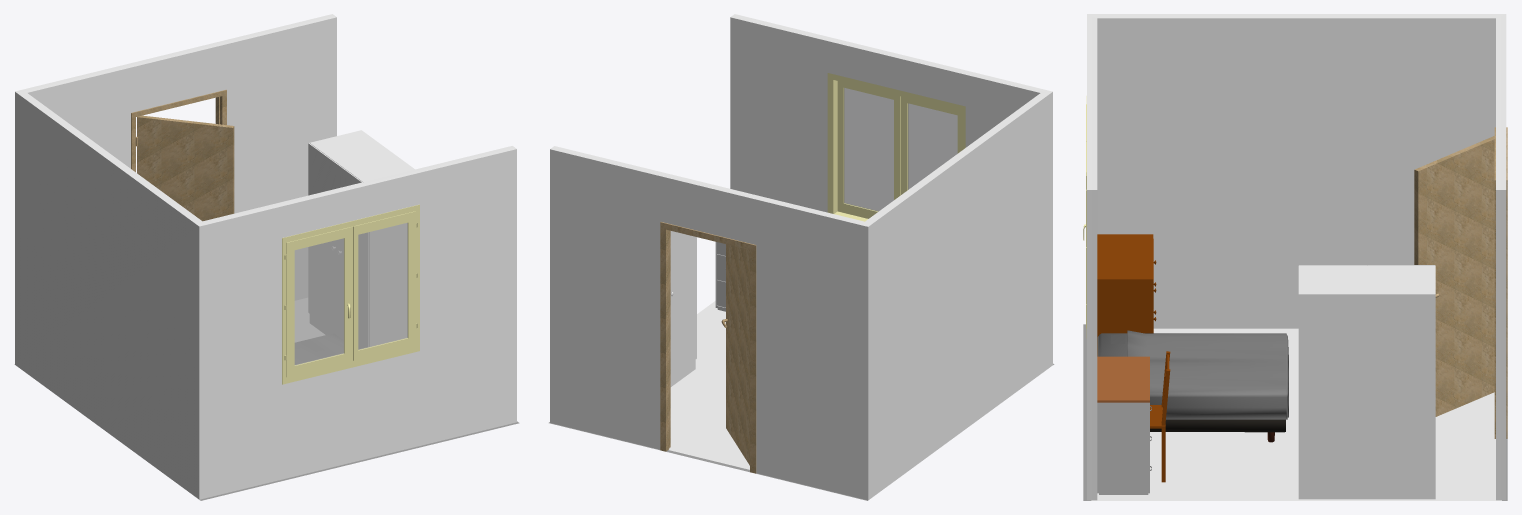
Rendered from HabitacionDerecha.obj.
3 renders of one model, left to right at view 1: azimuth 30°, elevation 25°; view 2: azimuth 150°, elevation 25°; view 3: azimuth 270°, elevation 25°, orthographic. The views are drawn at different scales.
Parts seen in each view (by area): view 1: wall_3_11, wall_4_17, wall_1_5, sweethome3d_opening_on_hinge_1_door_80, Corps_45, sweethome3d_window_pane_on_hinge_1_88, sweethome3d_window_pane_on_hinge_2_93, sweethome3d_opening_on_hinge_1_door_47, sweethome3d_opening_on_hinge_1_87, sweethome3d_opening_on_hinge_2_92, frame_81, sweethome3d_opening_on_hinge_2_door_53 (+10 smaller); view 2: wall_1_4, wall_4_17, wall_3_10, room_5_20, sweethome3d_window_pane_on_hinge_2_93, sweethome3d_opening_on_hinge_1_door_80, frame_72, sweethome3d_opening_on_hinge_2_door_53, sweethome3d_window_pane_on_hinge_1_88, frame_81, sweethome3d_opening_on_hinge_2_92, sweethome3d_opening_on_hinge_1_87 (+6 smaller); view 3: wall_4_16, Corps_45, room_5_20, sweethome3d_opening_on_hinge_1_door_80, 21, Corps_27, Bottom_54, Desk_55, wall_1_4, wall_3_10, wall_3_11, 25 (+10 smaller).
Part boxes in pixels (x1,y1,x2,y2): wall_3_11: [199, 149, 516, 499]; wall_4_17: [15, 92, 199, 499]; wall_1_5: [28, 17, 336, 300]; sweethome3d_opening_on_hinge_1_door_80: [137, 115, 234, 221]; Corps_45: [310, 130, 414, 346]; sweethome3d_window_pane_on_hinge_1_88: [294, 238, 344, 365]; sweethome3d_window_pane_on_hinge_2_93: [358, 223, 407, 349]; sweethome3d_opening_on_hinge_1_door_47: [308, 143, 338, 333]; sweethome3d_opening_on_hinge_1_87: [286, 226, 352, 377]; sweethome3d_opening_on_hinge_2_92: [353, 211, 416, 360]; frame_81: [282, 204, 419, 384]; sweethome3d_opening_on_hinge_2_door_53: [338, 165, 368, 348]; wall_1_4: [550, 149, 868, 500]; wall_4_17: [868, 92, 1052, 499]; wall_3_10: [730, 17, 1040, 212]; room_5_20: [669, 301, 749, 469]; sweethome3d_window_pane_on_hinge_2_93: [844, 88, 893, 211]; sweethome3d_opening_on_hinge_1_door_80: [726, 244, 749, 465]; frame_72: [660, 222, 756, 473]; sweethome3d_opening_on_hinge_2_door_53: [670, 231, 696, 377]; sweethome3d_window_pane_on_hinge_1_88: [908, 103, 957, 189]; frame_81: [827, 73, 965, 221]; sweethome3d_opening_on_hinge_2_92: [837, 81, 900, 218]; sweethome3d_opening_on_hinge_1_87: [901, 96, 959, 194]; wall_4_16: [1097, 18, 1495, 328]; Corps_45: [1298, 265, 1435, 499]; room_5_20: [1091, 328, 1501, 500]; sweethome3d_opening_on_hinge_1_door_80: [1414, 136, 1494, 416]; 21: [1127, 330, 1288, 419]; Corps_27: [1097, 234, 1153, 356]; Bottom_54: [1097, 402, 1149, 493]; Desk_55: [1097, 356, 1149, 402]; wall_1_4: [1501, 190, 1506, 500]; wall_3_10: [1092, 190, 1097, 500]; wall_3_11: [1087, 190, 1092, 500]; 25: [1150, 419, 1285, 432].
Size of the model in its own units: 305 by 250 by 310.
19 materials, 2 textured.
